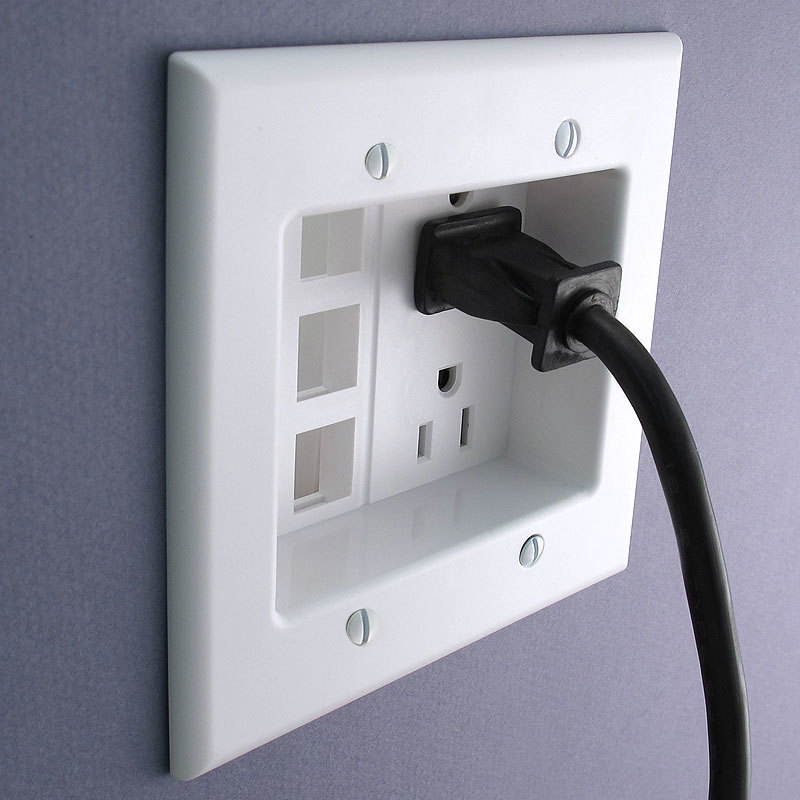outlet: (410, 356, 486, 466)
